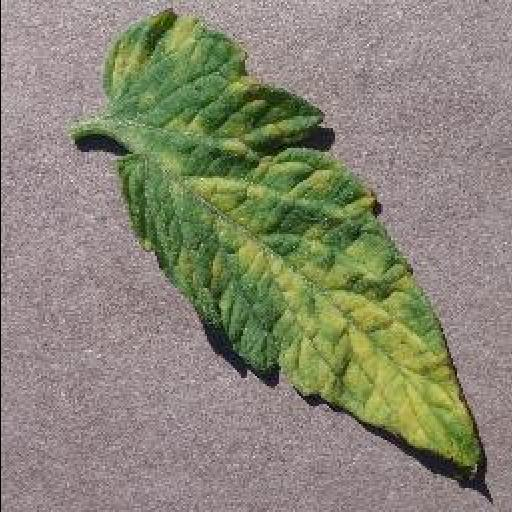disease_tomato: (94, 12, 480, 480)
